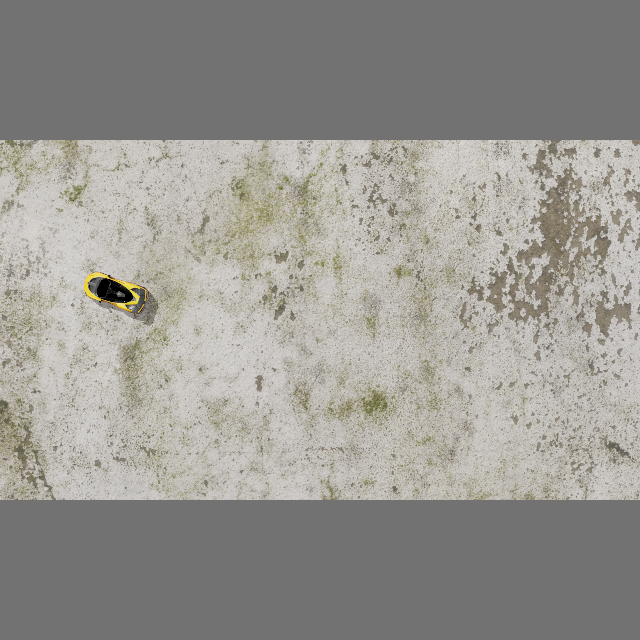car: (75, 266, 153, 317)
